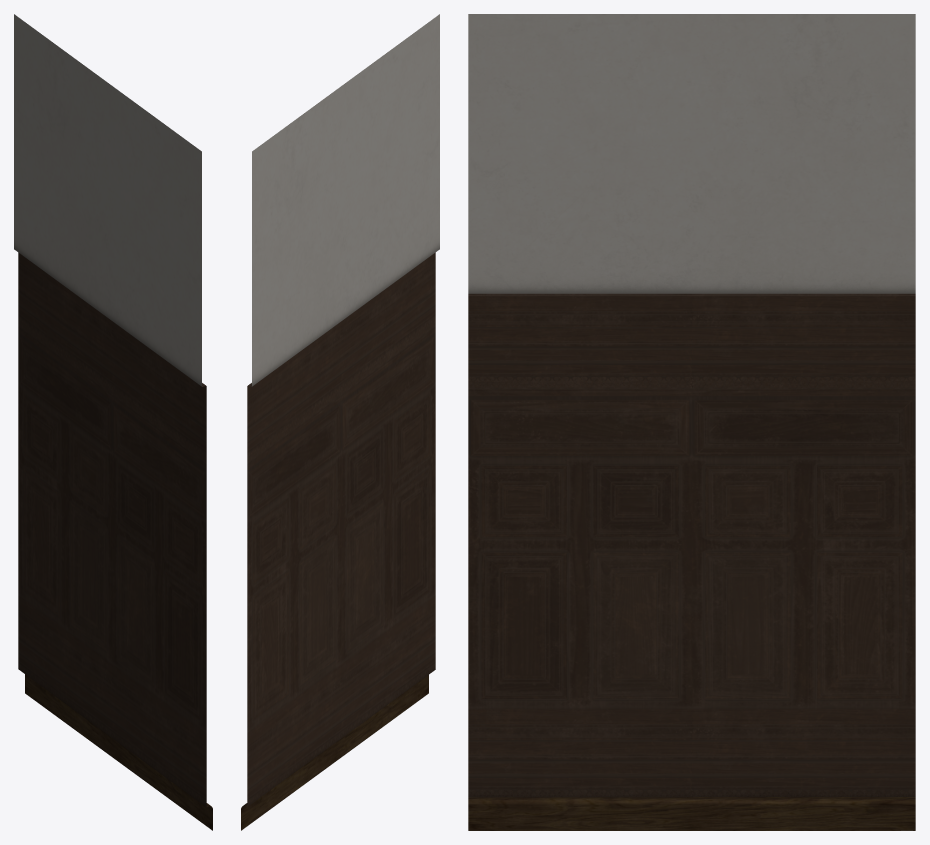
The model's file is Principal Office 2m Wall.fbx.
3 views of the same model, side by side, from view 1: azimuth 30°, elevation 25°; view 2: azimuth 150°, elevation 25°; view 3: azimuth 270°, elevation 25° (orthographic). The views are drawn at different scales.
Parts seen in each view (by area): view 1: Principle_Office_2M_Wall; view 2: Principle_Office_2M_Wall; view 3: Principle_Office_2M_Wall.
Part boxes in pixels (x1,y1,x2,y2): Principle_Office_2M_Wall: (14,14,212,830); Principle_Office_2M_Wall: (241,14,439,830); Principle_Office_2M_Wall: (468,14,915,830).
Bounding box in the file's own units: 6.64 × 400 × 200.
